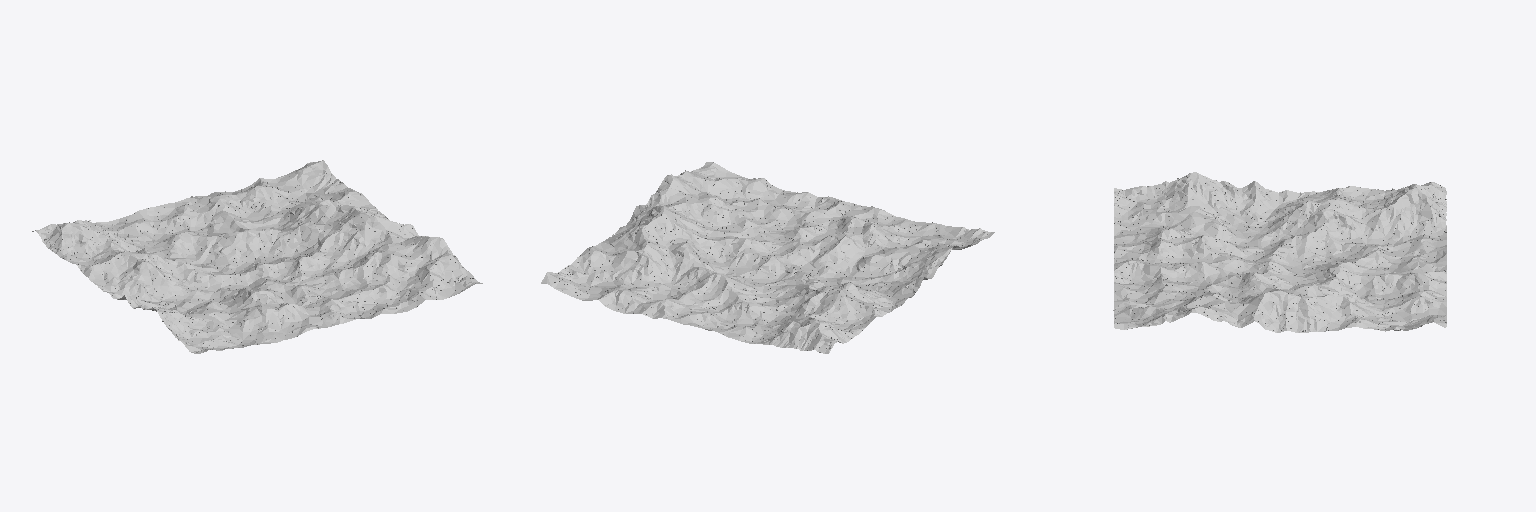
The model's file is landscape_grass.obj.
3 views of the same model, side by side, from view 1: azimuth 30°, elevation 25°; view 2: azimuth 150°, elevation 25°; view 3: azimuth 270°, elevation 25° (orthographic).
Visible parts, largest first — view 1: terrain_g; view 2: terrain_g; view 3: terrain_g.
Boxes of the visible parts, <box> form: terrain_g: <box>32,160,482,353</box>; terrain_g: <box>541,162,994,353</box>; terrain_g: <box>1114,172,1446,332</box>.
Bounding box in the file's own units: 205 × 23.81 × 205.